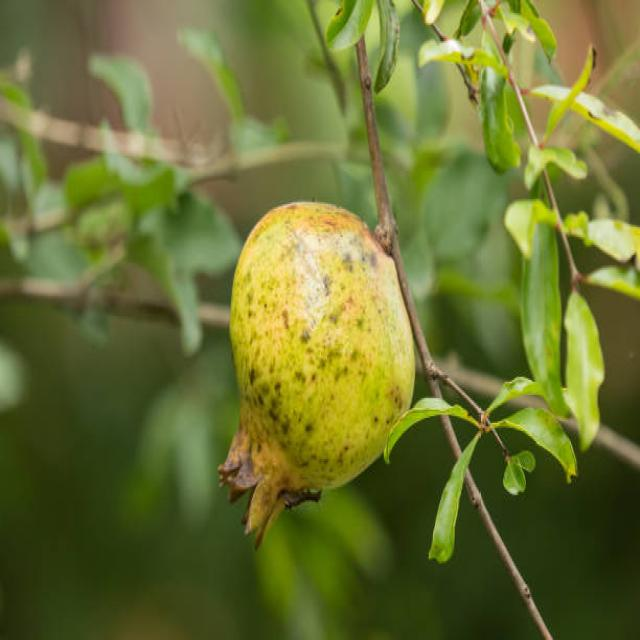Unripe: (220, 198, 414, 548)
